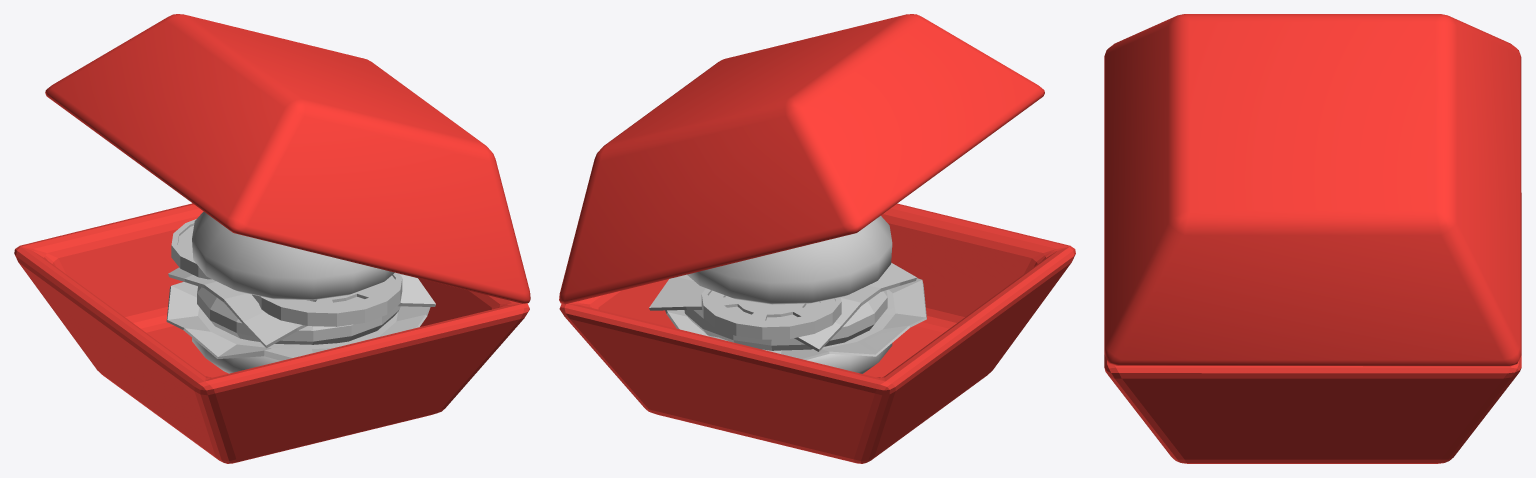
The model's file is burgernew.fbx.
The picture shows the model from 3 angles, left to right: view 1: azimuth 30°, elevation 25°; view 2: azimuth 150°, elevation 25°; view 3: azimuth 270°, elevation 25°; orthographic projection. The views are drawn at different scales.
Parts seen in each view (by area): view 1: kap2, kap1, bread1_low, marul_low, tomato2_low, cheese_low, low_meat, tomato1_low, bread2_low; view 2: kap2, kap1, bread1_low, tomato1_low, marul_low, cheese_low, low_meat, bread2_low; view 3: kap2, kap1.
Boxes of the visible parts, bbox=[...] form: kap2: bbox=[45, 14, 530, 303]; kap1: bbox=[14, 203, 529, 463]; bread1_low: bbox=[192, 211, 394, 300]; marul_low: bbox=[166, 282, 430, 360]; tomato2_low: bbox=[252, 272, 402, 326]; cheese_low: bbox=[168, 267, 435, 348]; low_meat: bbox=[197, 286, 400, 344]; tomato1_low: bbox=[171, 219, 211, 279]; bread2_low: bbox=[192, 338, 280, 373]; kap2: bbox=[559, 14, 1044, 304]; kap1: bbox=[559, 203, 1075, 463]; bread1_low: bbox=[687, 215, 892, 304]; tomato1_low: bbox=[701, 288, 841, 339]; marul_low: bbox=[665, 278, 926, 359]; cheese_low: bbox=[649, 263, 916, 351]; low_meat: bbox=[684, 290, 887, 350]; bread2_low: bbox=[806, 343, 892, 373]; kap2: bbox=[1104, 14, 1521, 366]; kap1: bbox=[1104, 354, 1521, 463].
Bounding box in the file's own units: 394 × 393 × 390.
